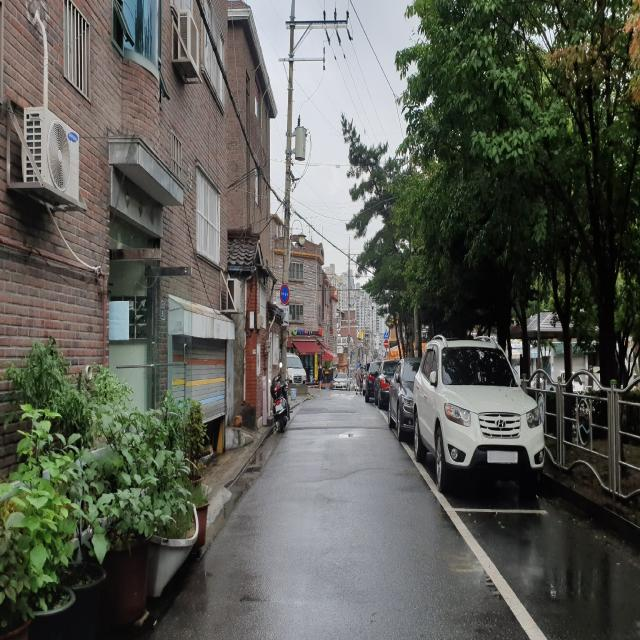car: (410, 335, 542, 492), (388, 358, 422, 440), (374, 360, 400, 410), (286, 352, 306, 385), (366, 362, 382, 402), (333, 372, 350, 390), (363, 362, 371, 396)
motorbike: (268, 362, 288, 432)
